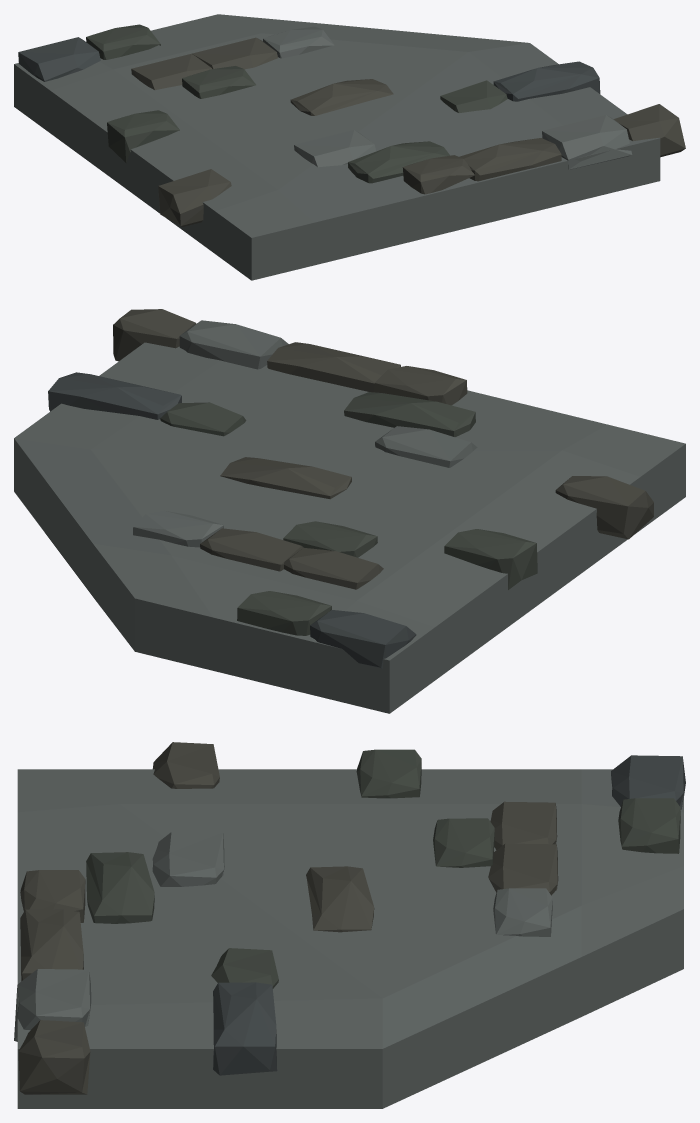
File: MCastle_Cobbles_07.FBX
The picture shows the model from 3 angles, top to bottom: view 1: azimuth 30°, elevation 25°; view 2: azimuth 150°, elevation 25°; view 3: azimuth 270°, elevation 25°; orthographic projection. The views are drawn at different scales.
Visible parts, largest first — view 1: MCastle_Cobbles_07_Base_LOD0; view 2: MCastle_Cobbles_07_Base_LOD0; view 3: MCastle_Cobbles_07_Base_LOD0.
Boxes of the visible parts, bbox=[...] form: MCastle_Cobbles_07_Base_LOD0: bbox=[14, 14, 685, 280]; MCastle_Cobbles_07_Base_LOD0: bbox=[14, 309, 685, 713]; MCastle_Cobbles_07_Base_LOD0: bbox=[14, 742, 685, 1108].
Size of what is drawn, in the model's own units: 4.49 by 0.5659 by 4.02.
